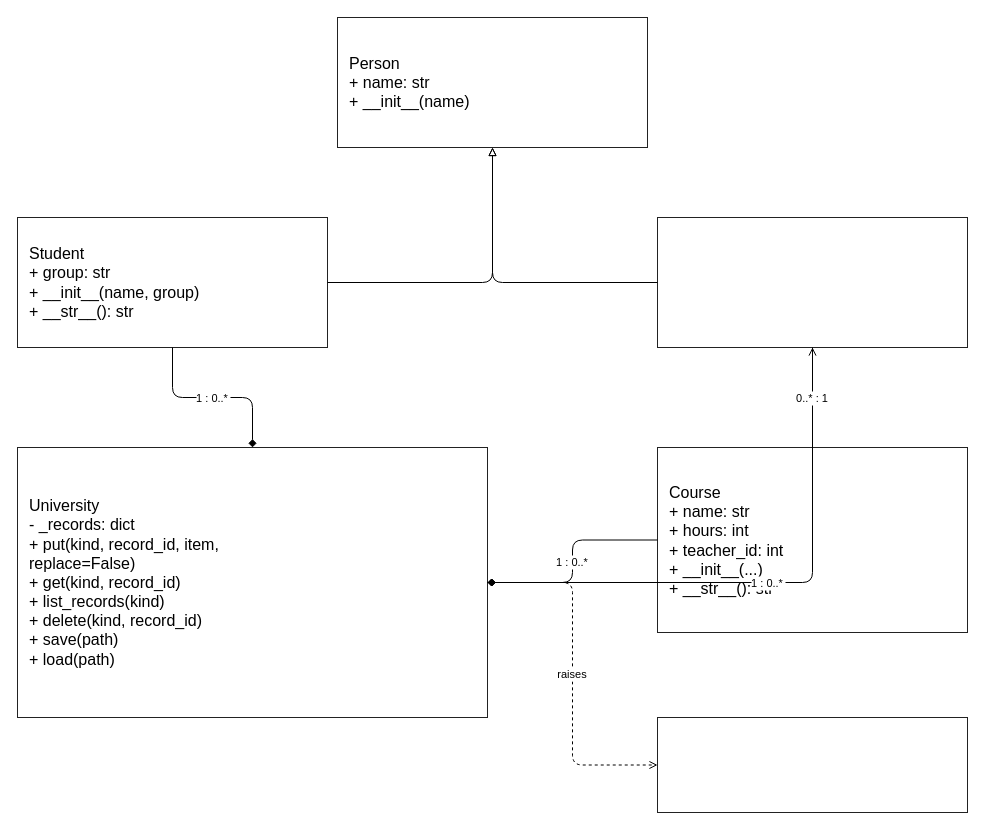
This 985x830 diagram has some shape labels left out. Here are the shapes that lost their labels. From the top down, the box of each, then its label:
(656, 216, 968, 348): Teacher + department: str + __init__(name, department) + __str__(): str
(656, 716, 968, 812): UniversityError Exception Ошибки правил университета
